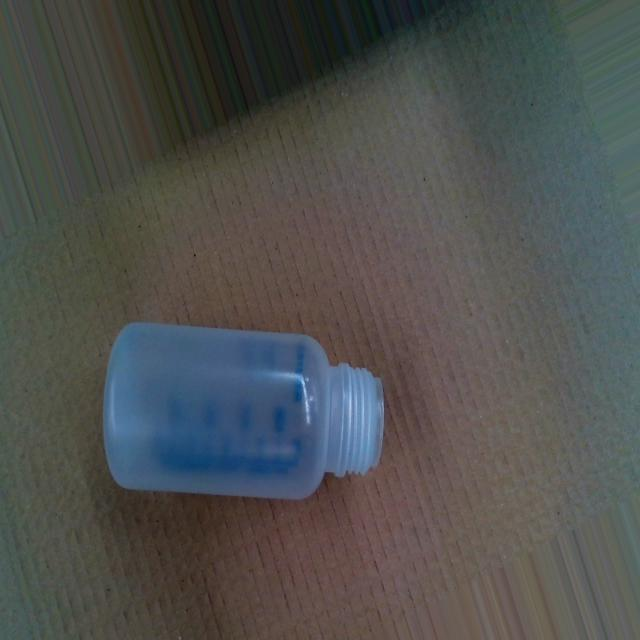bottle: (101, 318, 387, 508)
